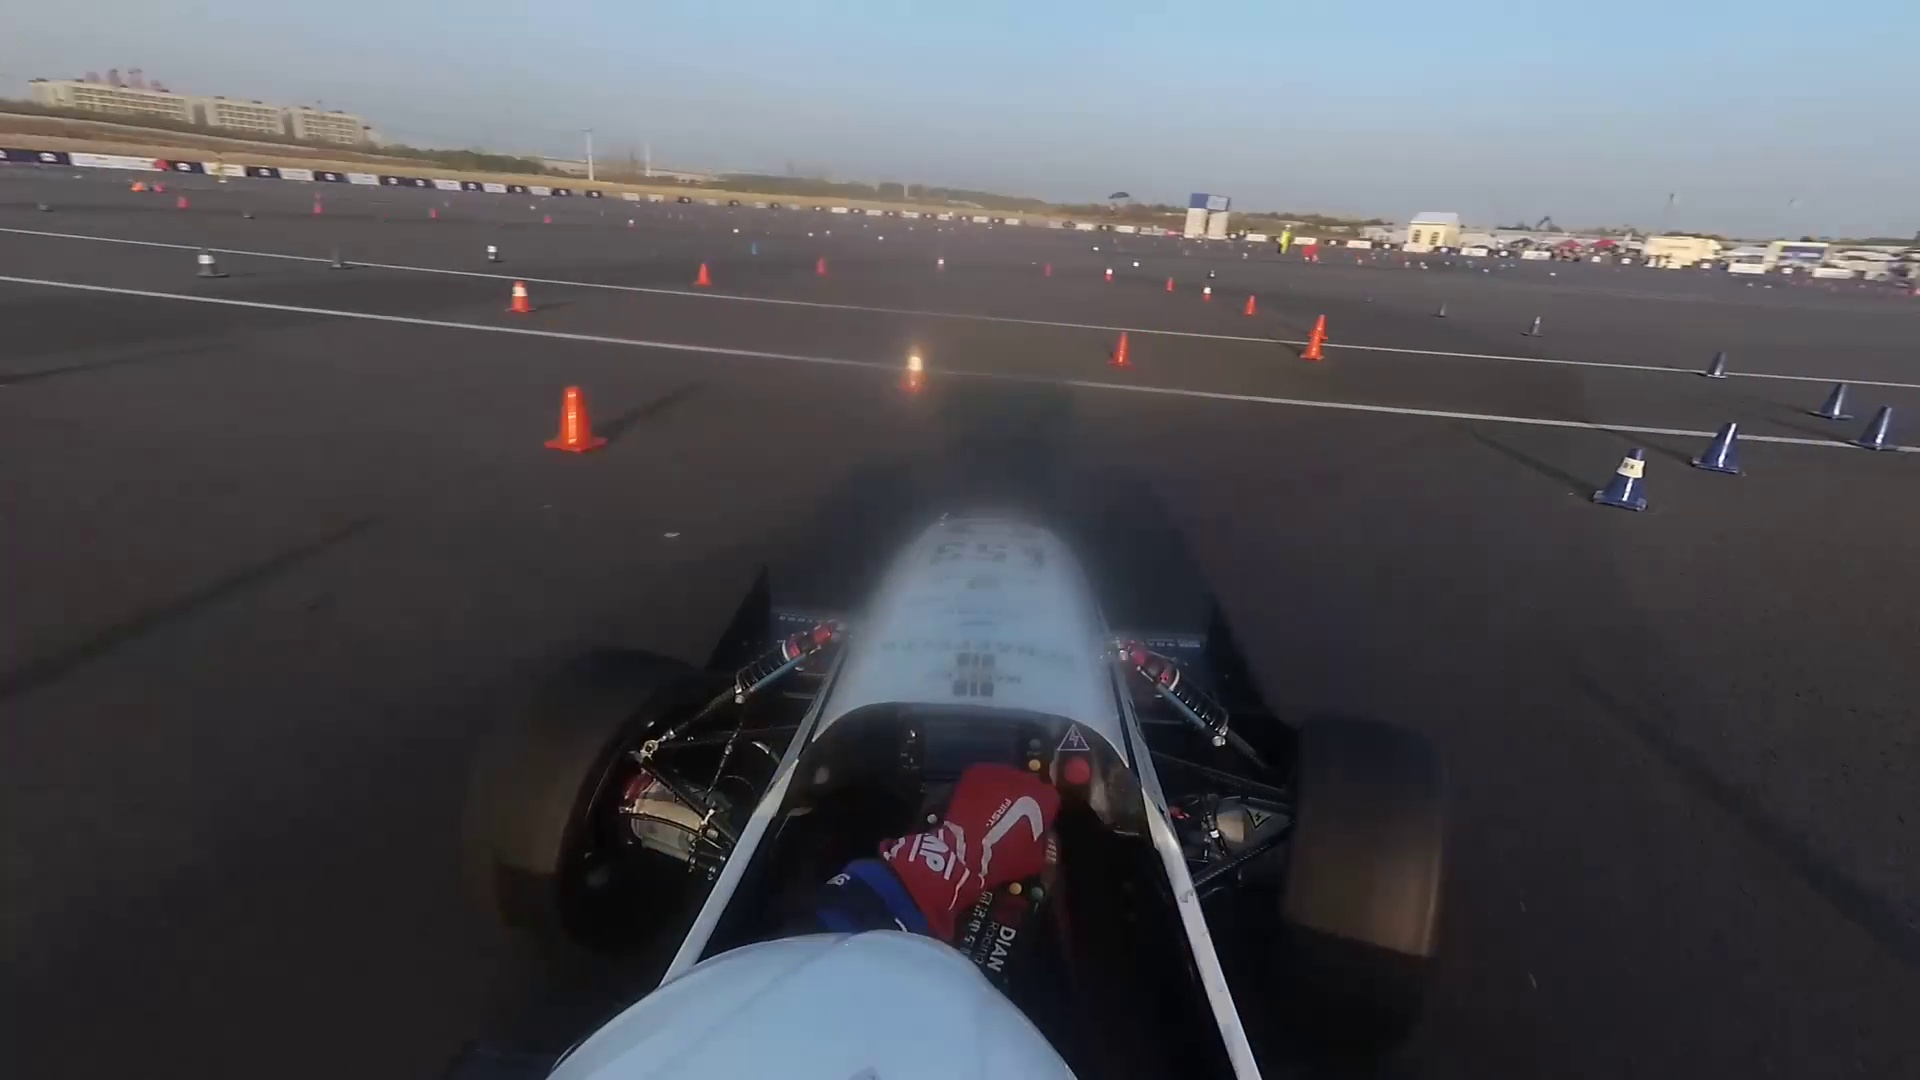blue_cone: (1593, 452, 1659, 522), (1697, 425, 1742, 469), (1859, 401, 1891, 451), (1818, 384, 1847, 422), (196, 248, 225, 284), (324, 241, 351, 273), (1702, 351, 1727, 381), (1524, 315, 1544, 338), (484, 244, 502, 262), (1437, 305, 1448, 322)
red_cone: (546, 388, 604, 458), (897, 345, 934, 398), (508, 284, 534, 314), (1302, 332, 1323, 363), (1112, 331, 1129, 368), (1304, 313, 1327, 340), (694, 262, 711, 290), (1246, 294, 1261, 316), (175, 191, 189, 212), (814, 258, 825, 276), (1102, 268, 1116, 281), (1201, 285, 1211, 302), (1164, 277, 1175, 291), (429, 206, 438, 220), (315, 200, 323, 215)
